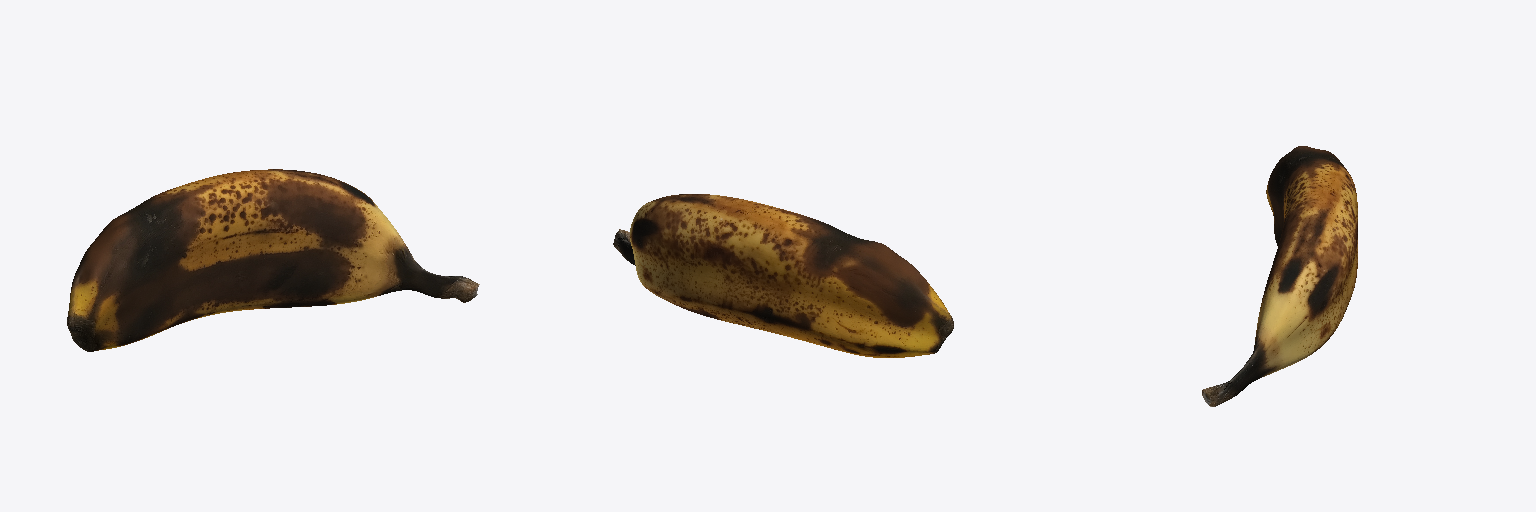
3 renders of one model, left to right at view 1: azimuth 30°, elevation 25°; view 2: azimuth 150°, elevation 25°; view 3: azimuth 270°, elevation 25°, orthographic.
Size of the model in its own units: 5.05 by 1.7 by 1.83.
1 materials, 1 textured.